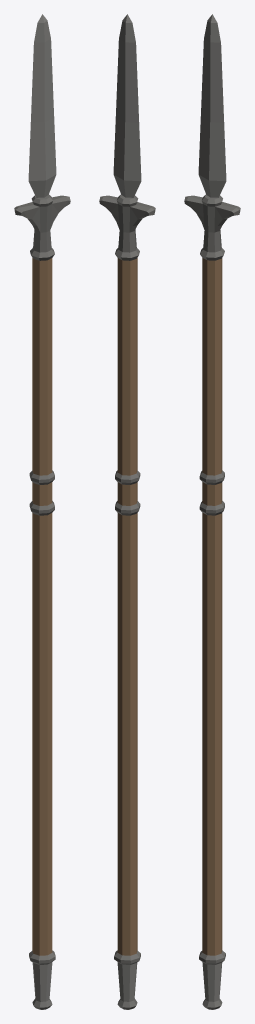
File: SM_pwe_medieval_spear_05.fbx
The picture shows the model from 3 angles, left to right: view 1: azimuth 30°, elevation 25°; view 2: azimuth 150°, elevation 25°; view 3: azimuth 330°, elevation 25°; orthographic projection.
Parts seen in each view (by area): view 1: SM_pwe_medieval_spear_05; view 2: SM_pwe_medieval_spear_05; view 3: SM_pwe_medieval_spear_05.
Part boxes in pixels (left/top/right/bottom): SM_pwe_medieval_spear_05: left=14, top=14, right=70, bottom=1009; SM_pwe_medieval_spear_05: left=99, top=14, right=155, bottom=1009; SM_pwe_medieval_spear_05: left=184, top=14, right=240, bottom=1009.
Size of the model in its own units: 14.79 by 259 by 6.52.
